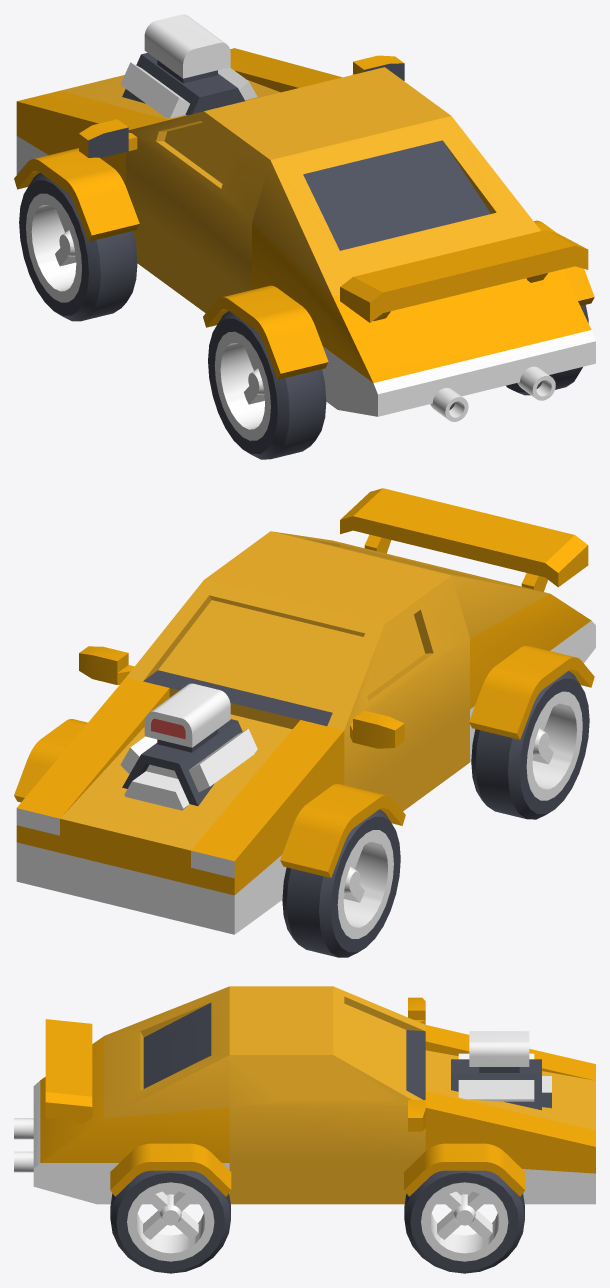
The model's file is Traffic Race Yellow.fbx.
3 views of the same model, one above another, from view 1: azimuth 30°, elevation 25°; view 2: azimuth 150°, elevation 25°; view 3: azimuth 270°, elevation 25° (orthographic). The views are drawn at different scales.
Visible parts, largest first — view 1: trunk_smooth_126, windshield_default_121, wheel_smallSports_135, wheel_smallSports_134, detail_spoilerRound_130, hood_sleek_117, detail_engine_133, detail_fenderRounded_137, detail_fenderRounded_136, detail_mirror_131, detail_exhaust_142, detail_exhaust_143 (+3 smaller); view 2: windshield_default_121, hood_sleek_117, detail_spoilerRound_130, wheel_smallSports_134, wheel_smallSports_135, detail_engine_133, trunk_smooth_126, detail_fenderRounded_137, detail_fenderRounded_136, detail_fenderRounded_138, detail_mirror_131, detail_mirror_132; view 3: windshield_default_121, trunk_smooth_126, hood_sleek_117, wheel_smallSports_139, wheel_smallSports_140, detail_engine_133, detail_spoilerRound_130, detail_fenderRounded_138, detail_fenderRounded_141, detail_mirror_132, detail_exhaust_142, detail_exhaust_143 (+1 smaller).
Part boxes in pixels (x1,y1,x2,y2): trunk_smooth_126: (252, 116, 595, 416); windshield_default_121: (126, 67, 450, 313); wheel_smallSports_135: (208, 311, 326, 459); wheel_smallSports_134: (19, 172, 137, 321); detail_spoilerRound_130: (340, 230, 588, 322); hood_sleek_117: (16, 48, 341, 186); detail_engine_133: (120, 14, 257, 118); detail_fenderRounded_137: (203, 285, 328, 379); detail_fenderRounded_136: (14, 148, 139, 241); detail_mirror_131: (79, 119, 137, 157); detail_exhaust_142: (517, 366, 555, 400); detail_exhaust_143: (430, 388, 468, 421); windshield_default_121: (126, 531, 469, 811); hood_sleek_117: (16, 677, 344, 934); detail_spoilerRound_130: (340, 488, 588, 591); wheel_smallSports_134: (282, 809, 400, 957); wheel_smallSports_135: (471, 671, 589, 819); detail_engine_133: (120, 683, 257, 810); trunk_smooth_126: (273, 531, 595, 762); detail_fenderRounded_137: (469, 645, 594, 739); detail_fenderRounded_136: (280, 784, 405, 877); detail_fenderRounded_138: (14, 719, 87, 802); detail_mirror_131: (350, 710, 404, 748); detail_mirror_132: (79, 646, 134, 684); windshield_default_121: (229, 986, 425, 1204); trunk_smooth_126: (33, 986, 229, 1204); hood_sleek_117: (425, 1025, 595, 1204); wheel_smallSports_139: (404, 1170, 524, 1273); wheel_smallSports_140: (110, 1170, 230, 1273); detail_engine_133: (451, 1031, 551, 1110); detail_spoilerRound_130: (45, 1019, 92, 1123); detail_fenderRounded_138: (404, 1143, 525, 1196); detail_fenderRounded_141: (110, 1143, 231, 1196); detail_mirror_132: (408, 1100, 425, 1131); detail_exhaust_142: (14, 1151, 33, 1172); detail_exhaust_143: (14, 1118, 33, 1139).
Bounding box in the file's own units: 14.5 × 11.08 × 29.7.
